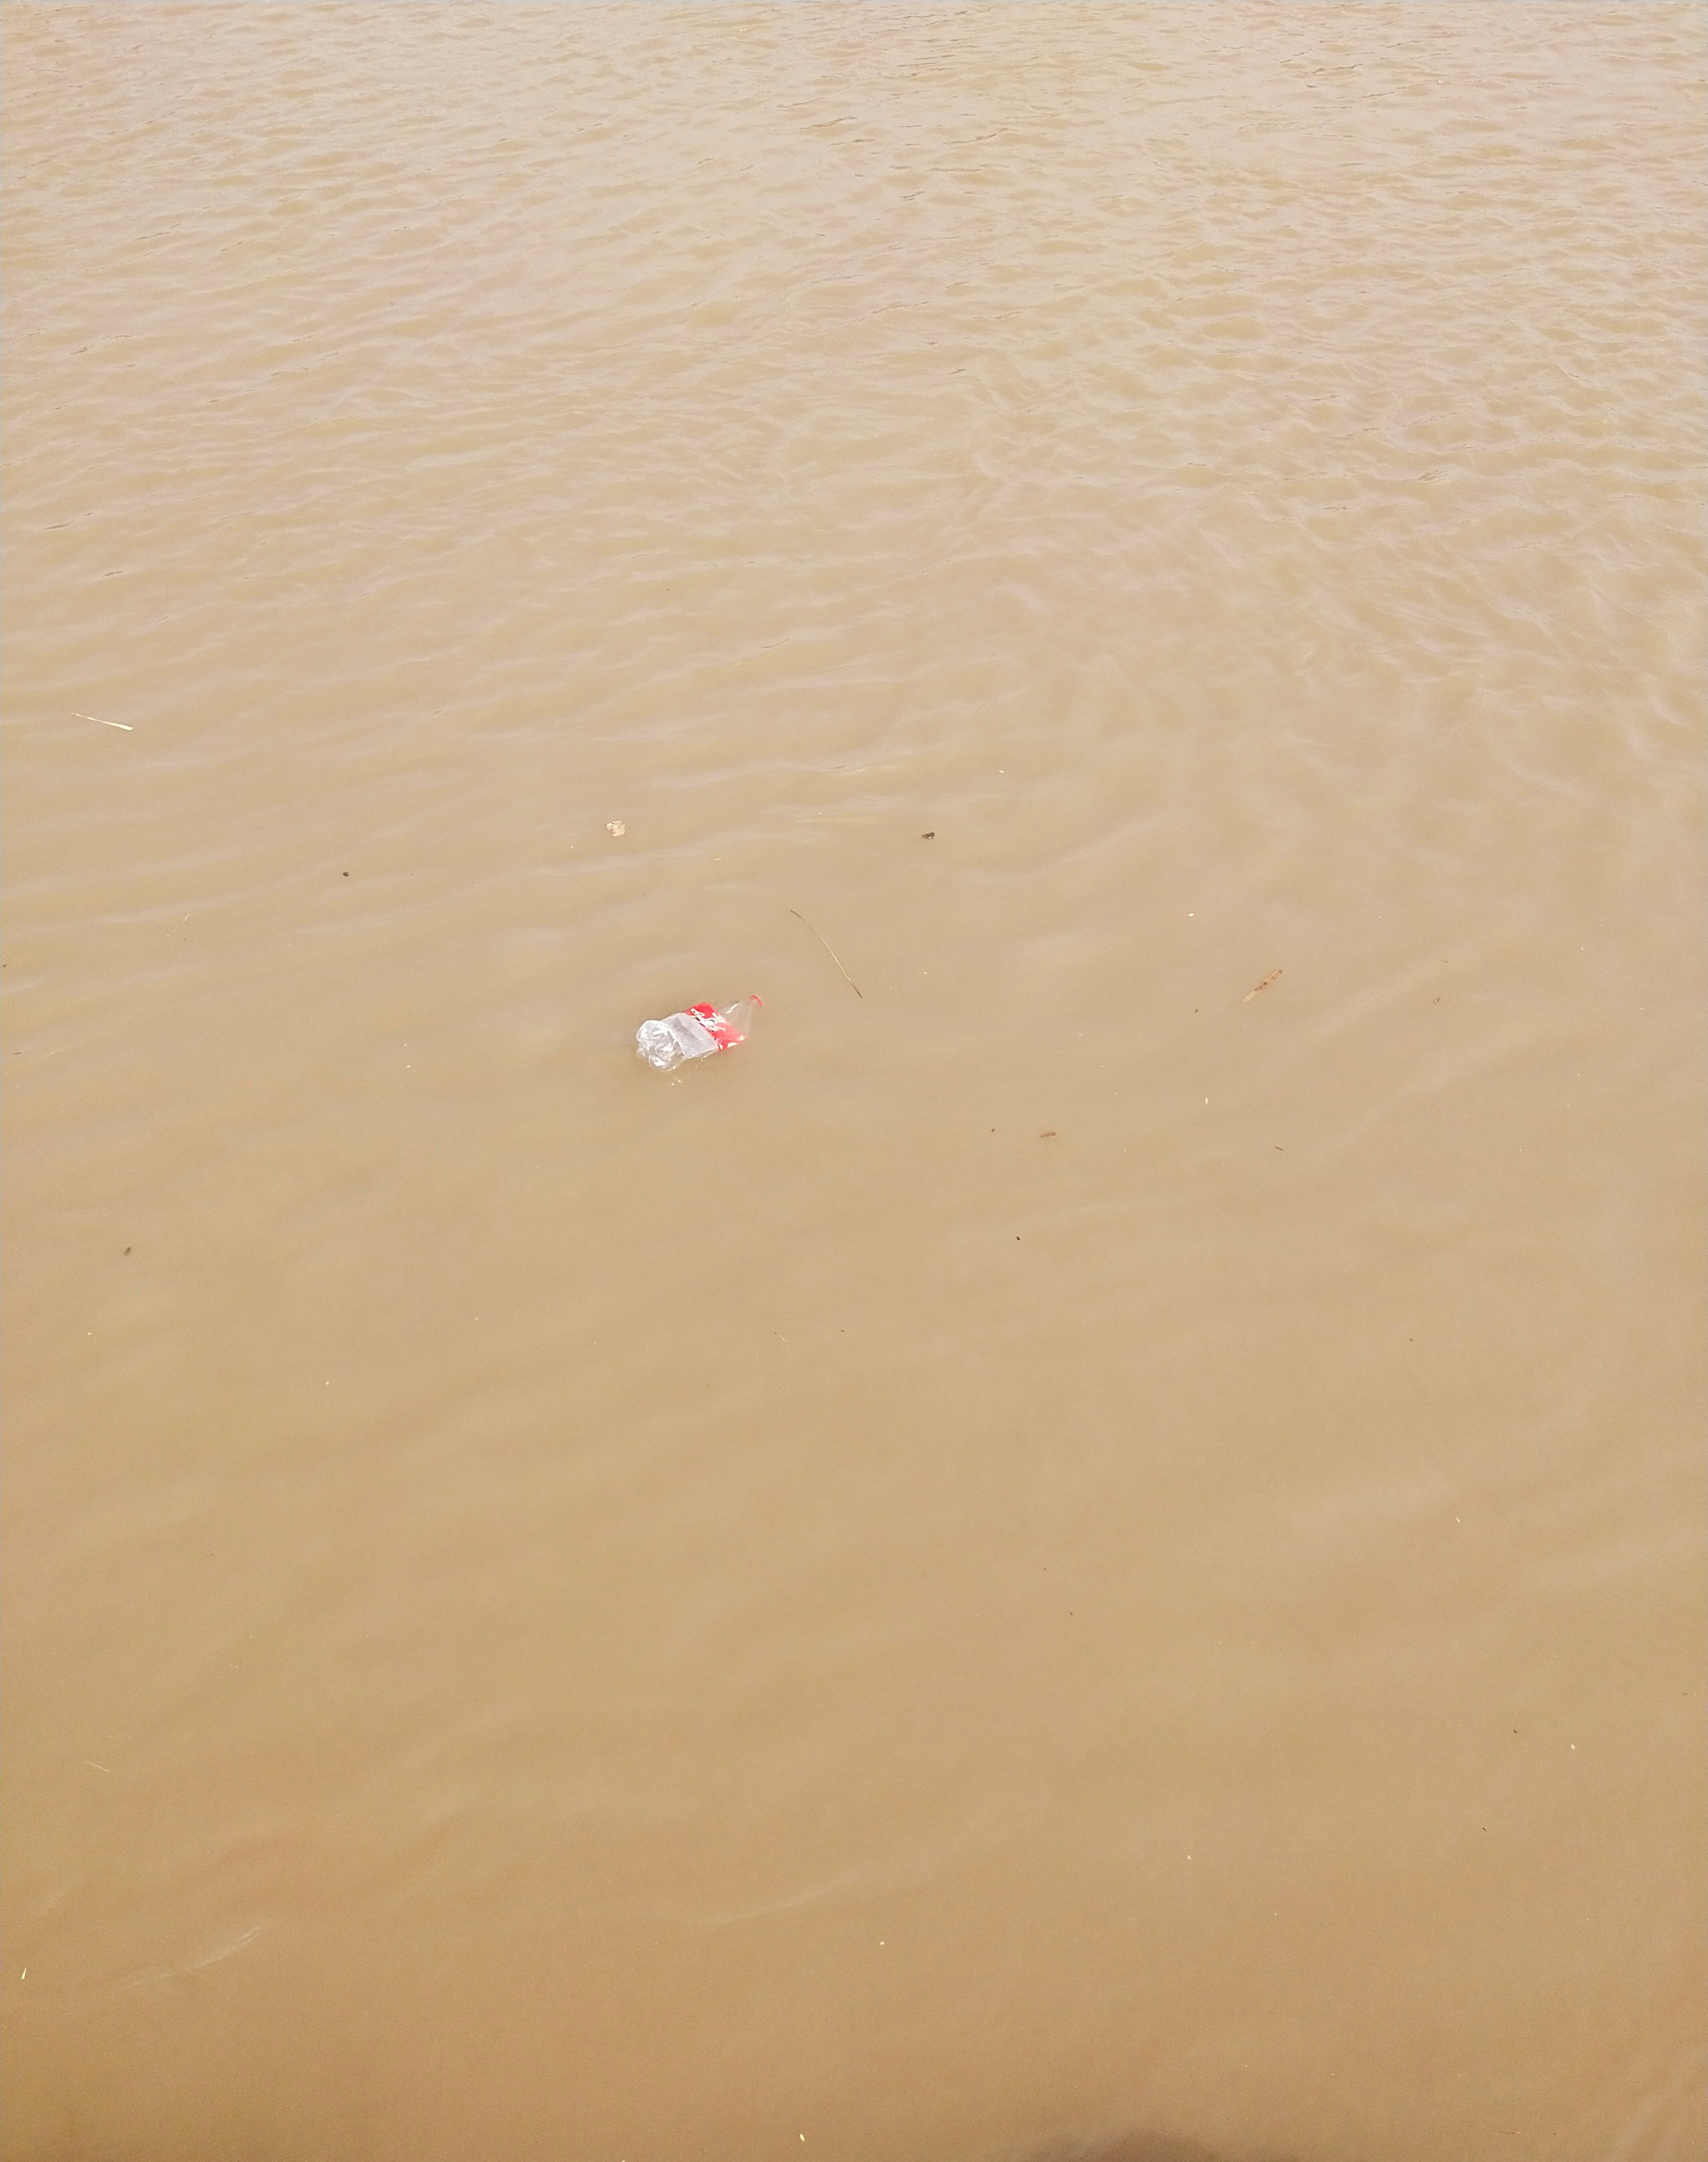Plastic Bottle: (635, 993, 764, 1072)
